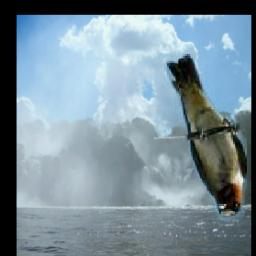Swallow: (162, 54, 247, 221)
